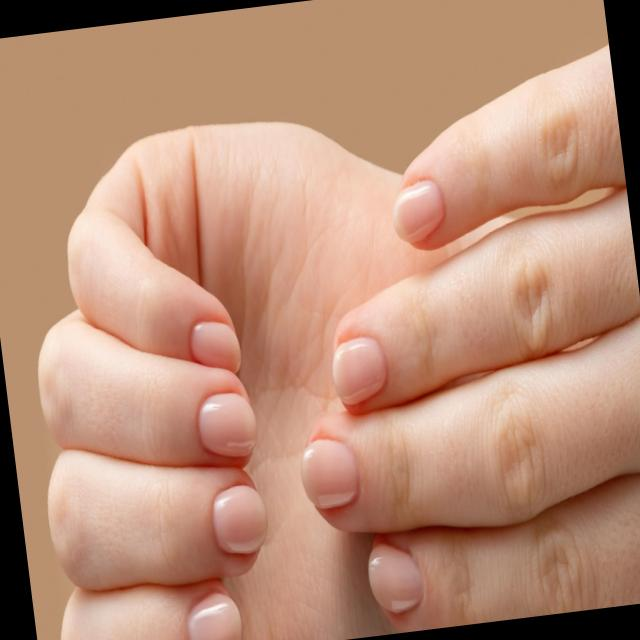Nail: (301, 436, 358, 507), (368, 540, 423, 611), (332, 335, 387, 404), (199, 390, 257, 455), (213, 483, 267, 552), (393, 177, 444, 241), (188, 590, 241, 640), (191, 320, 240, 372)
